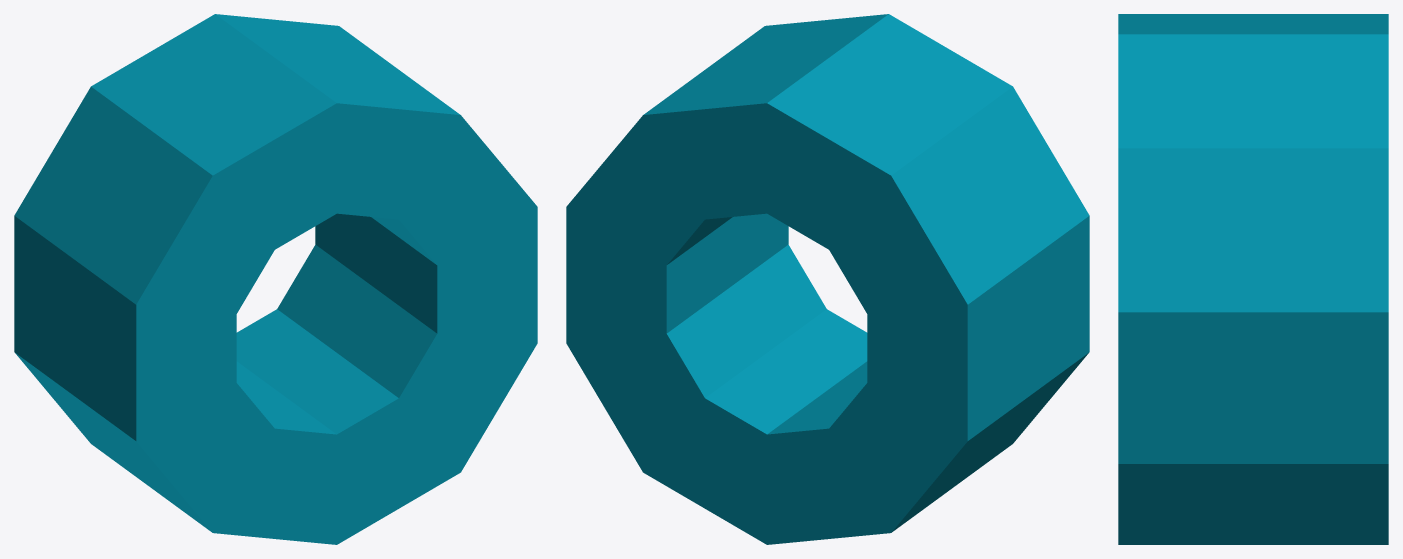
Rendered from wheel2.glb.
3 views of the same model, side by side, from view 1: azimuth 30°, elevation 25°; view 2: azimuth 150°, elevation 25°; view 3: azimuth 270°, elevation 25° (orthographic). The views are drawn at different scales.
Visible parts, largest first — view 1: Mesh_Mesh_head_geo.001_lambert2SG.001; view 2: Mesh_Mesh_head_geo.001_lambert2SG.001; view 3: Mesh_Mesh_head_geo.001_lambert2SG.001.
Boxes of the visible parts, x1,y1,x2,y2 form: Mesh_Mesh_head_geo.001_lambert2SG.001: (14, 14, 537, 544); Mesh_Mesh_head_geo.001_lambert2SG.001: (566, 14, 1089, 544); Mesh_Mesh_head_geo.001_lambert2SG.001: (1118, 14, 1388, 544).
Size of the model in its own units: 0.0038 by 0.004 by 0.002.
